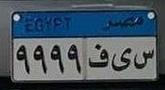9: (48, 43, 65, 76), (15, 43, 32, 75), (32, 43, 48, 75), (67, 45, 82, 75)
faa: (87, 42, 109, 72)
seen: (133, 47, 154, 72)
yaa: (109, 43, 132, 73)
